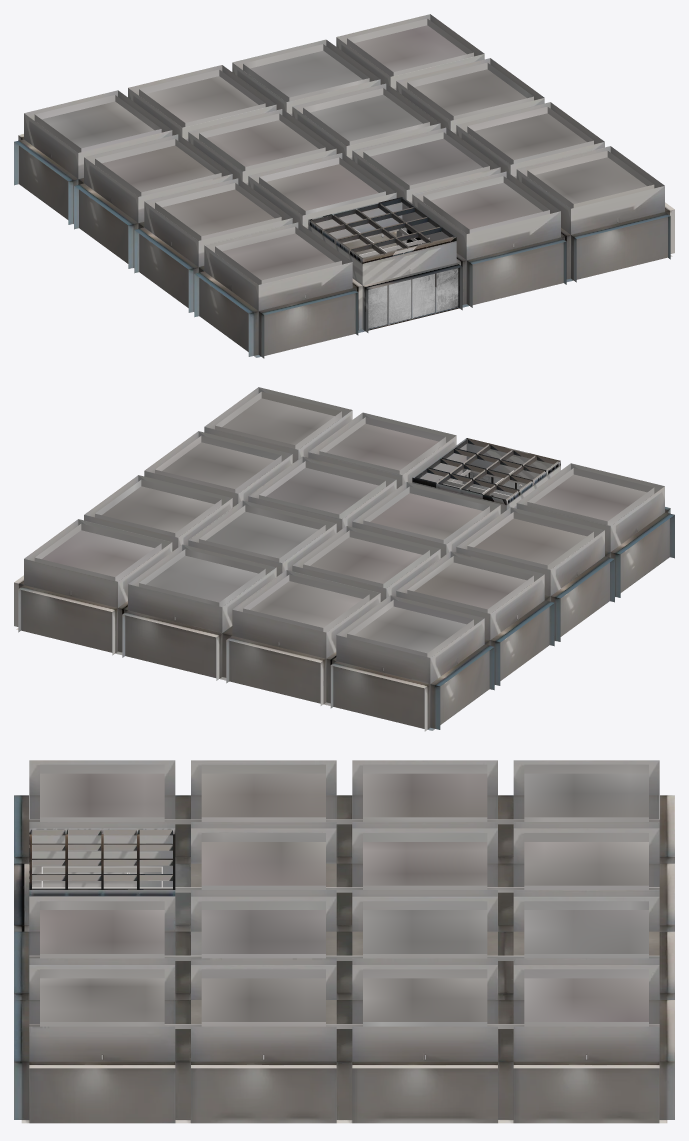
Rendered from vr-art-gallery-2020-l-baked-max-scene.glb.
The picture shows the model from 3 angles, top to bottom: view 1: azimuth 30°, elevation 25°; view 2: azimuth 150°, elevation 25°; view 3: azimuth 270°, elevation 25°; orthographic projection. The views are drawn at different scales.
Visible parts, largest first — view 1: ceiling_ceiling_0, walls_walls_0, floor_floor_0, glass_glass_0, windows_windows_0; view 2: ceiling_ceiling_0, walls_walls_0, floor_floor_0, windows_windows_0; view 3: ceiling_ceiling_0, walls_walls_0, floor_floor_0, windows_windows_0.
Boxes of the visible parts, <box> form: ceiling_ceiling_0: <box>34,18,654,297</box>; walls_walls_0: <box>14,14,674,358</box>; floor_floor_0: <box>19,146,672,357</box>; glass_glass_0: <box>368,268,458,328</box>; windows_windows_0: <box>311,198,458,329</box>; ceiling_ceiling_0: <box>34,391,654,670</box>; walls_walls_0: <box>14,387,674,731</box>; floor_floor_0: <box>16,519,669,730</box>; windows_windows_0: <box>415,439,558,500</box>; ceiling_ceiling_0: <box>29,764,659,1059</box>; walls_walls_0: <box>14,760,674,1119</box>; floor_floor_0: <box>21,795,667,1123</box>; windows_windows_0: <box>29,829,175,889</box>.
Bounding box in the file's own units: 51.2 × 8 × 51.2.
8 materials, 8 textured.
